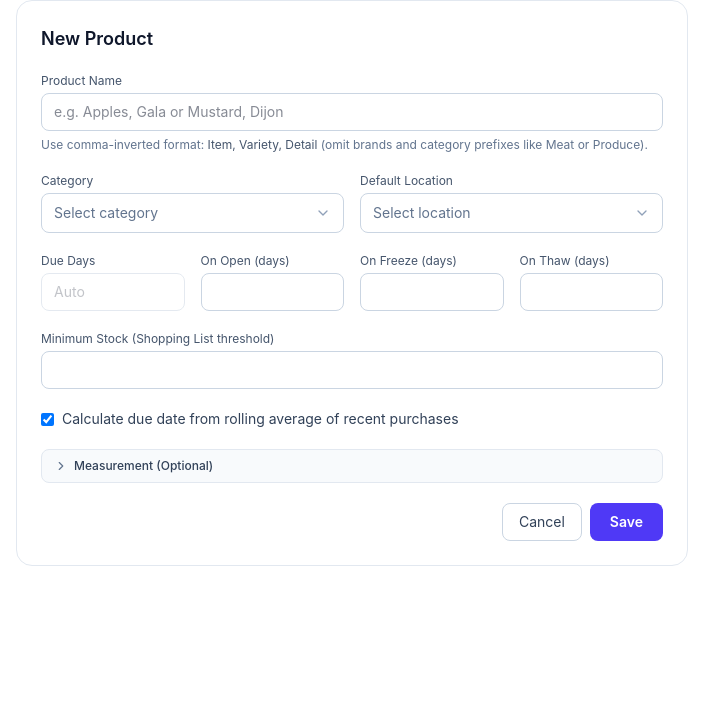
Test: ProductFormPage rolling-average due days default › shows live similar existing products and surfaces 409 duplicate conflicts inline
The width and height of the screenshot is (705, 722).
Check: the text "Item, Variety, Detail" is shown, box [208,137,317,152]
Type "Apples, Gala" into the field labelled "Product Name" at (352, 112), box [41,93,663,131]
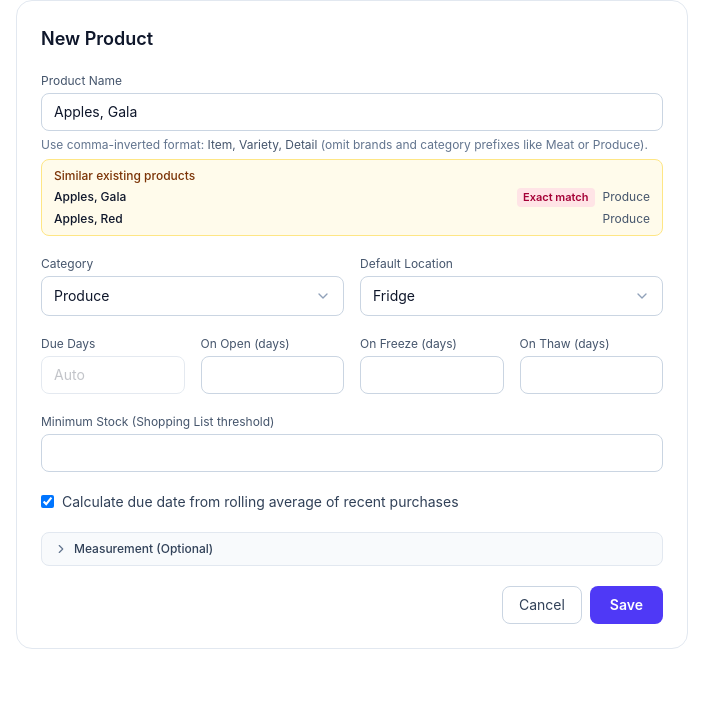
Check: the element with test id "product-form-similar-products" shows "Apples, Gala", box [54,189,126,205]
Check: the element with test id "product-form-similar-products" shows "Exact match", box [523,190,588,204]
Check: the element with test id "product-form-similar-products" shows "Apples, Red", box [54,211,123,227]
Submit triggers 409 conflict surfaced inline with link to existing product
Click the button "Save" at (626, 605), box [590,586,663,624]
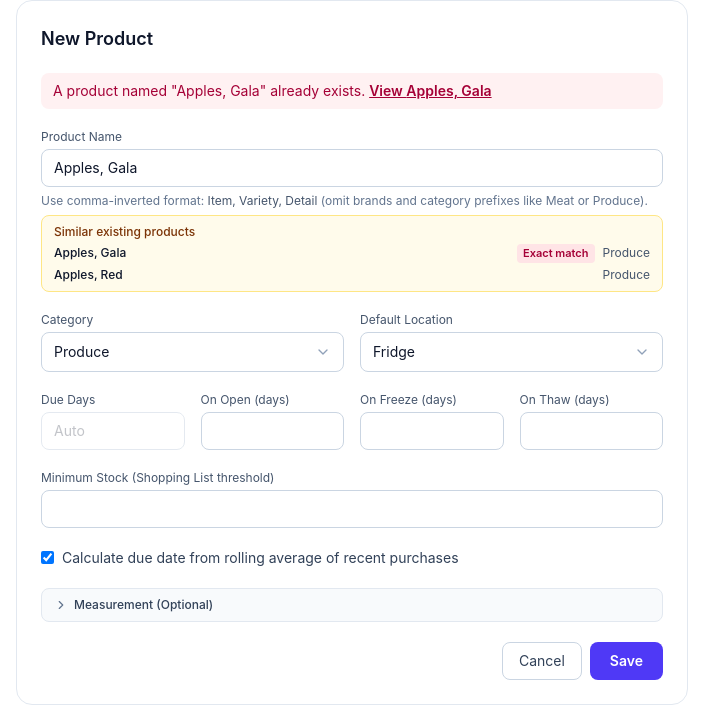
Check: the message shows "A product named \"Apples, Gala\" already exists.", box [53,82,365,99]
